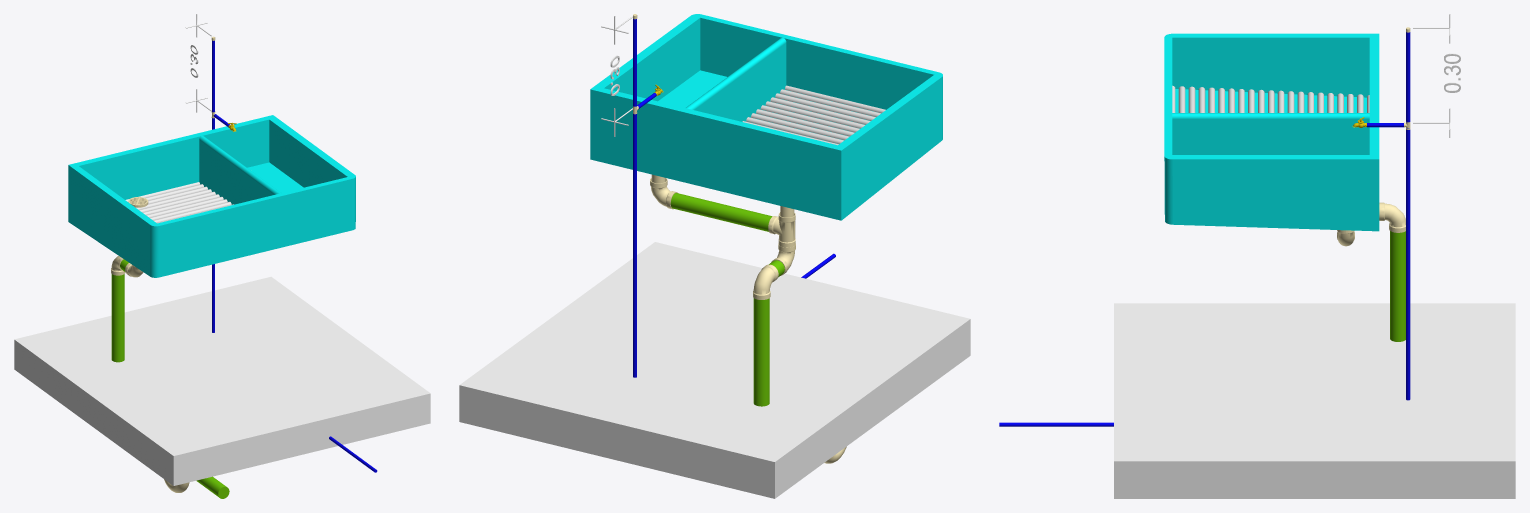
Rendered from lavadero.glb.
3 views of the same model, side by side, from view 1: azimuth 30°, elevation 25°; view 2: azimuth 150°, elevation 25°; view 3: azimuth 270°, elevation 25° (orthographic). The views are drawn at different scales.
Visible parts, largest first — view 1: Geom3D (×3); view 2: Geom3D (×10); view 3: Geom3D (×6).
Part boxes in pixels (x1,y1,x2,y2): Geom3D (×3): [14, 115, 430, 485]; Geom3D (×10): [459, 14, 970, 498]; Geom3D (×6): [999, 33, 1515, 498].
Size of the model in its own units: 0.113 by 0.1664 by 0.1562.
